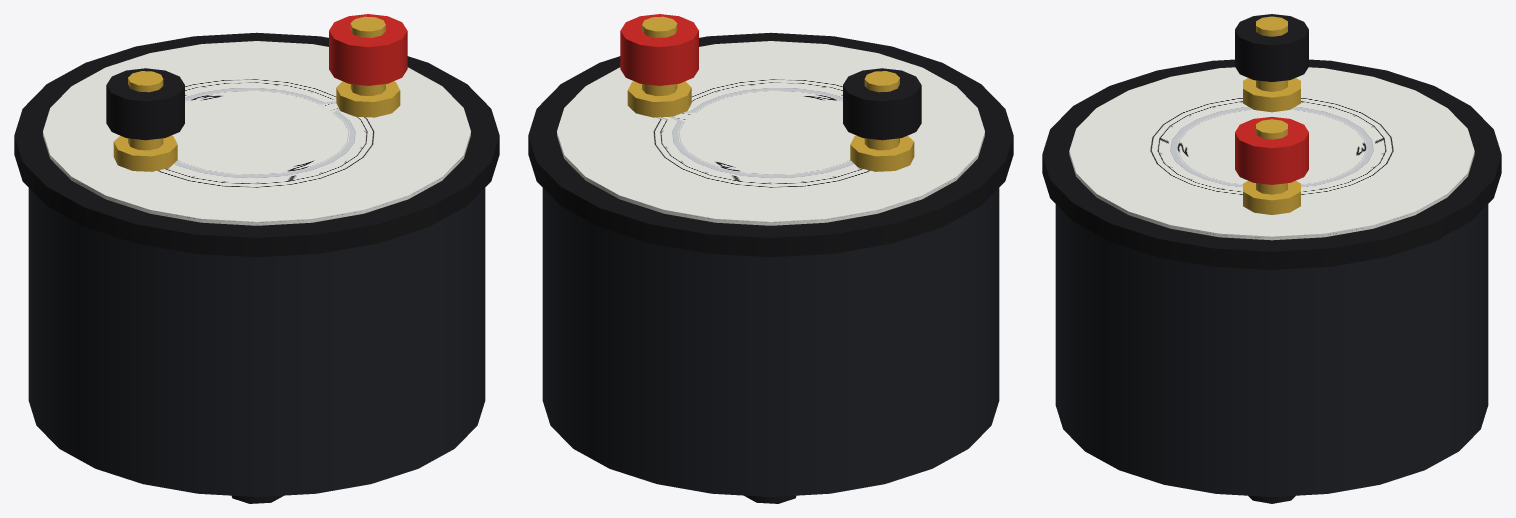
File: StandardResistor_Lab_Pro.obj
3 views of the same model, side by side, from view 1: azimuth 30°, elevation 25°; view 2: azimuth 150°, elevation 25°; view 3: azimuth 270°, elevation 25° (orthographic). The views are drawn at different scales.
Bounding box in the file's own units: 0.068 × 0.057 × 0.068.
